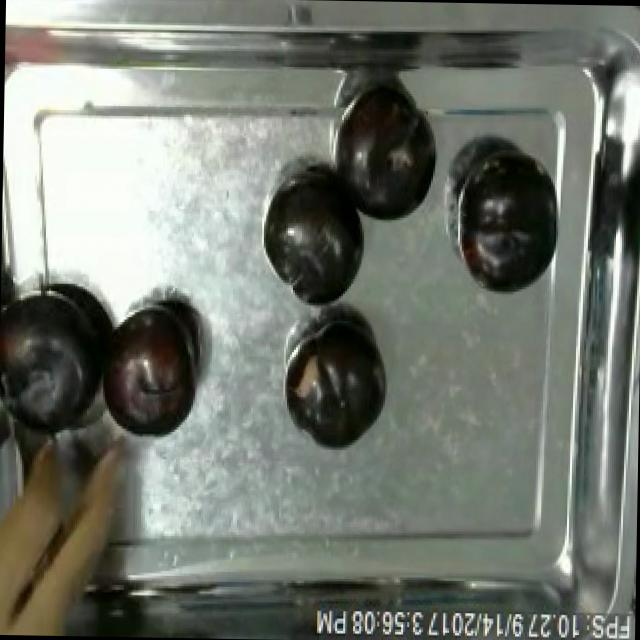Fruit: (0, 280, 118, 448), (90, 294, 208, 448), (450, 153, 565, 304), (282, 314, 392, 458), (260, 170, 372, 311)
